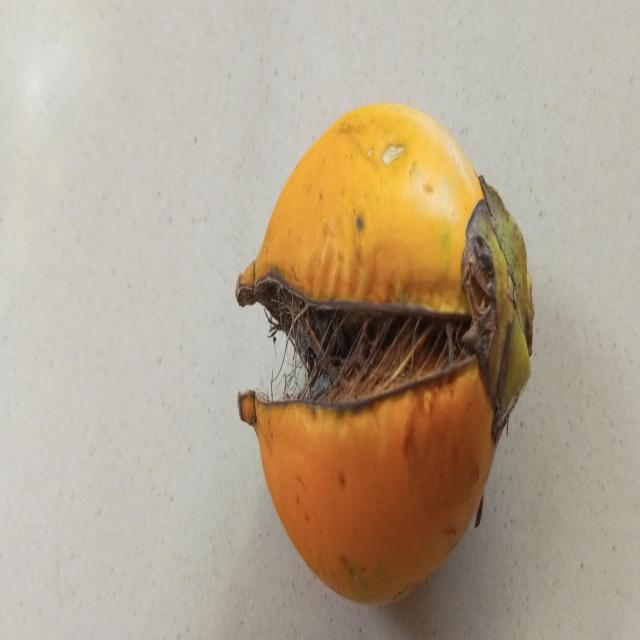damaged: (236, 103, 534, 604)
